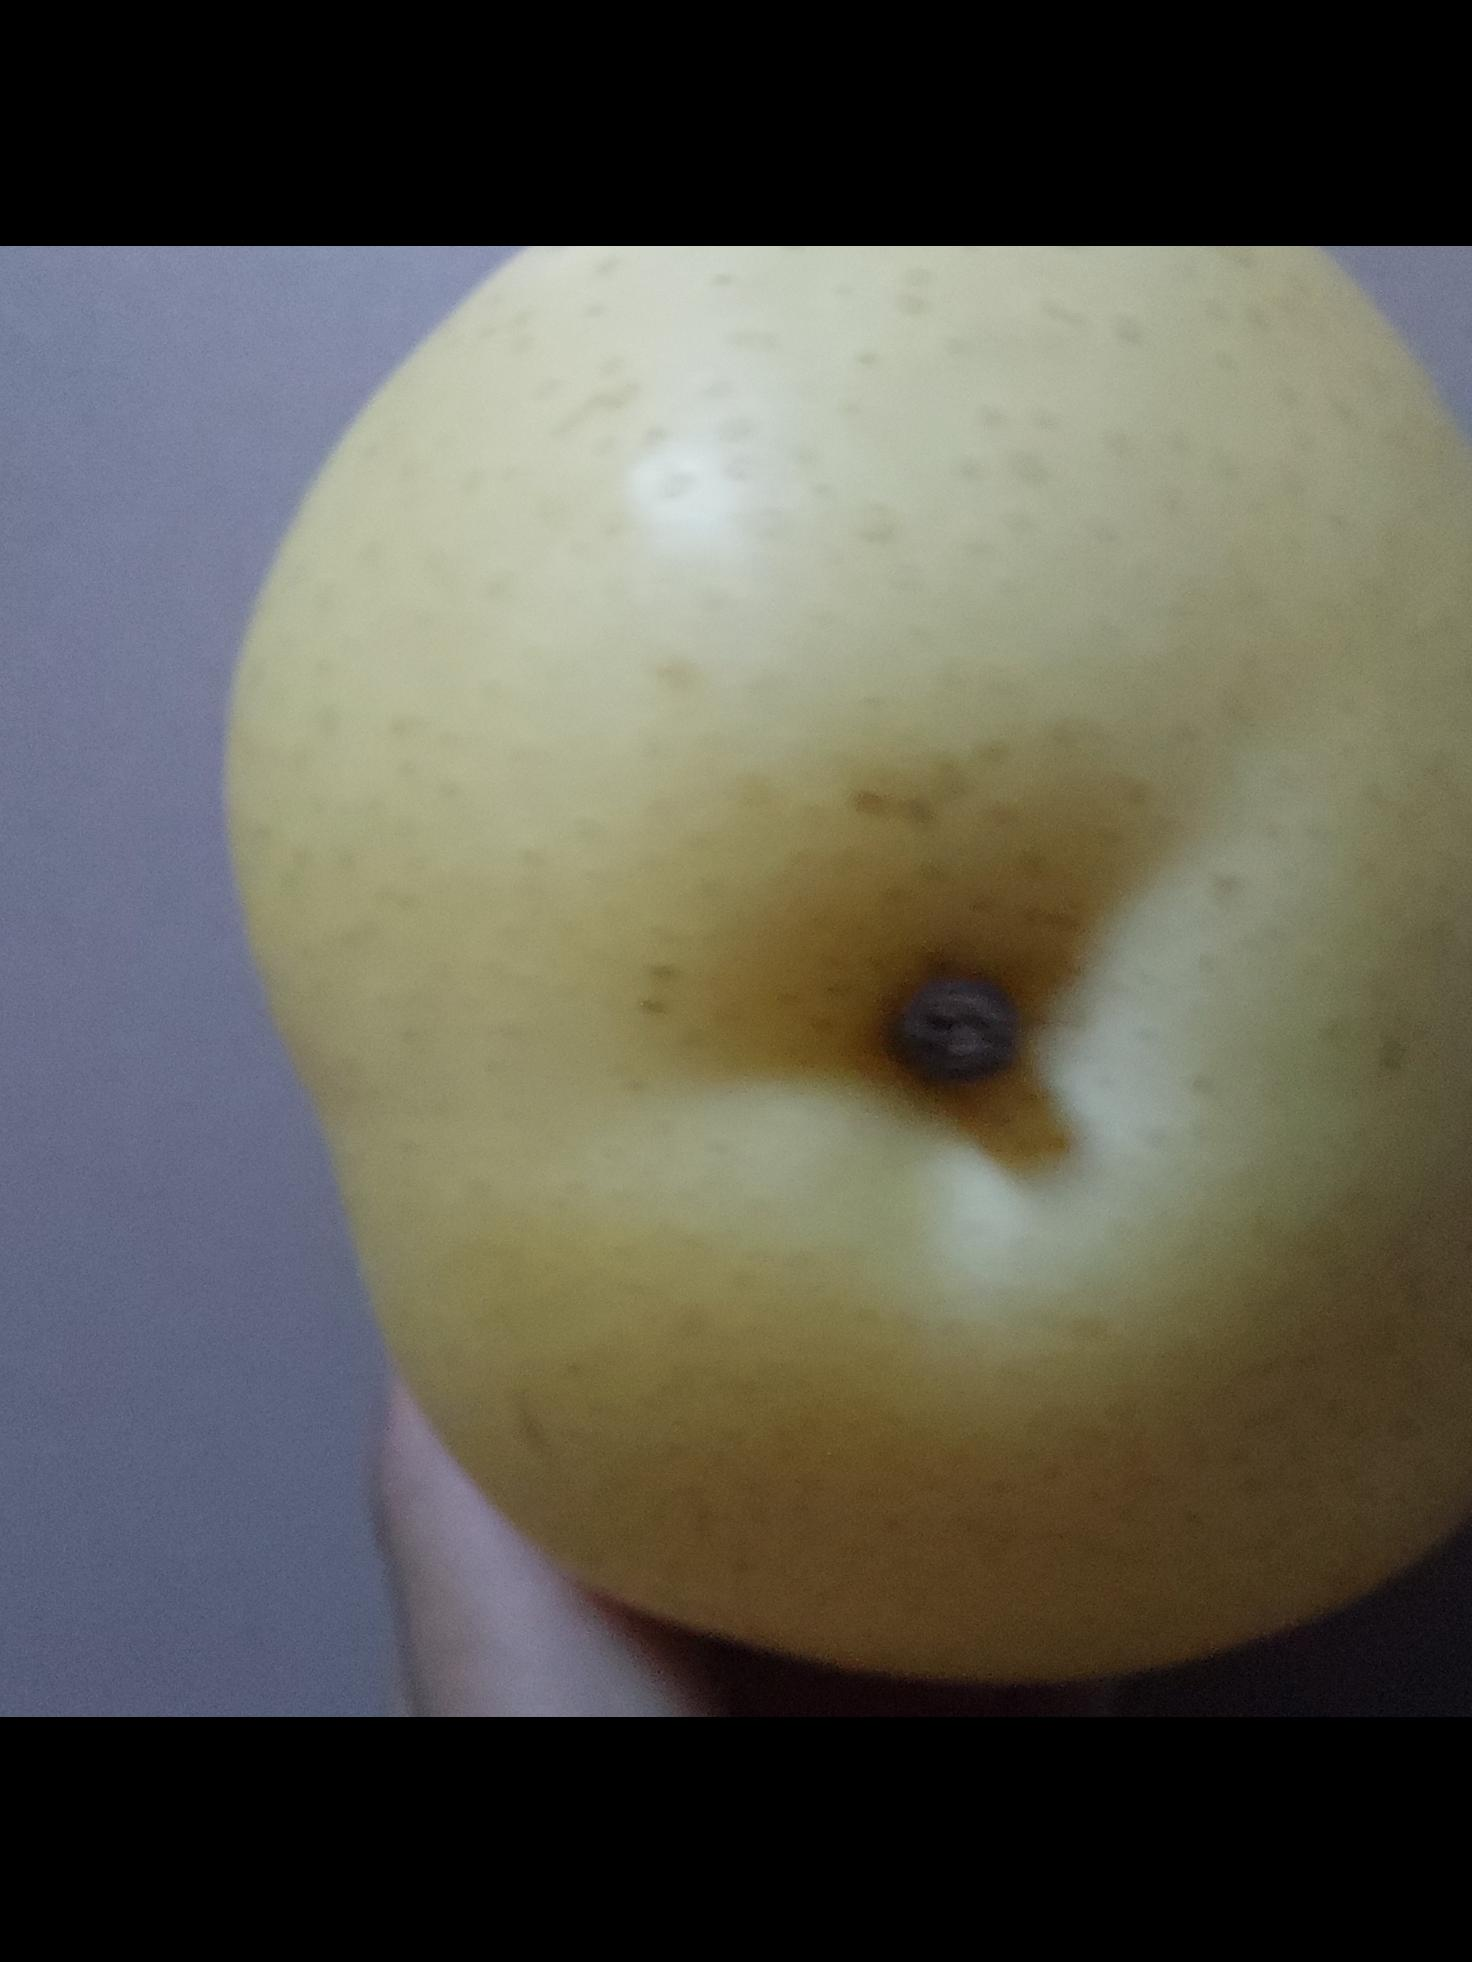Good Pear: (221, 244, 1472, 1651)
